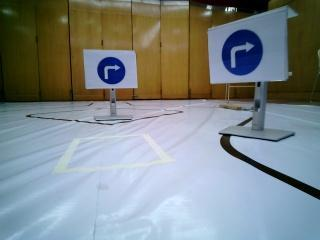right: (216, 26, 285, 80), (86, 52, 139, 89)
